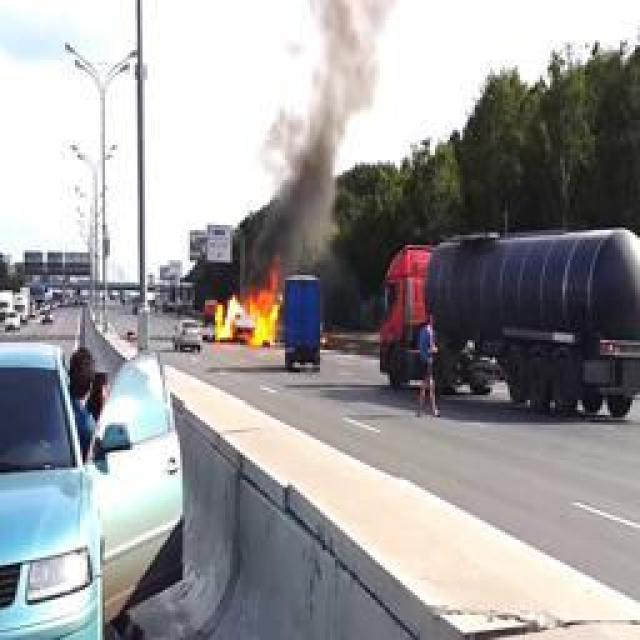Fire: (215, 261, 283, 349)
